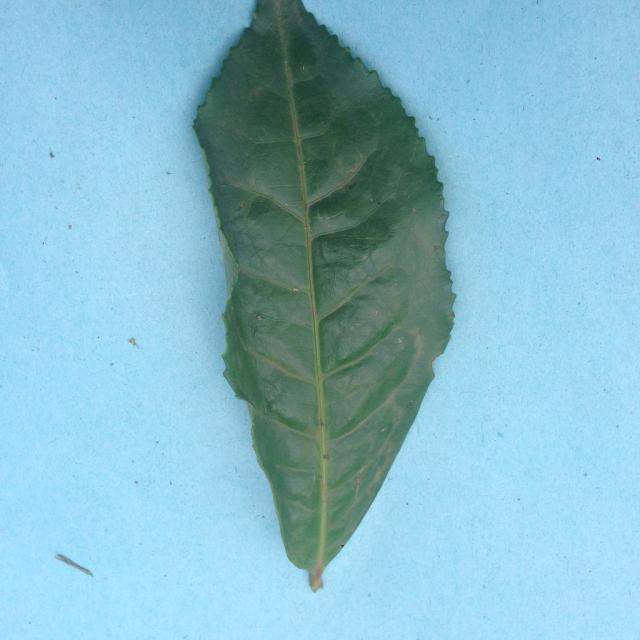Healthy: (167, 0, 464, 617)
